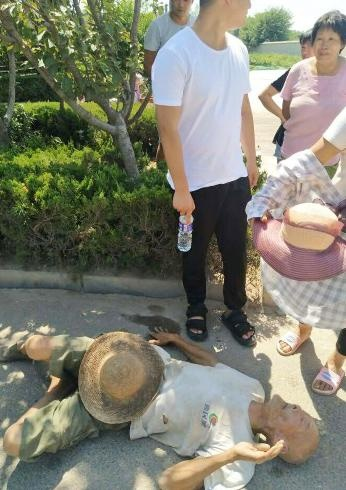falling: (2, 311, 335, 489)
